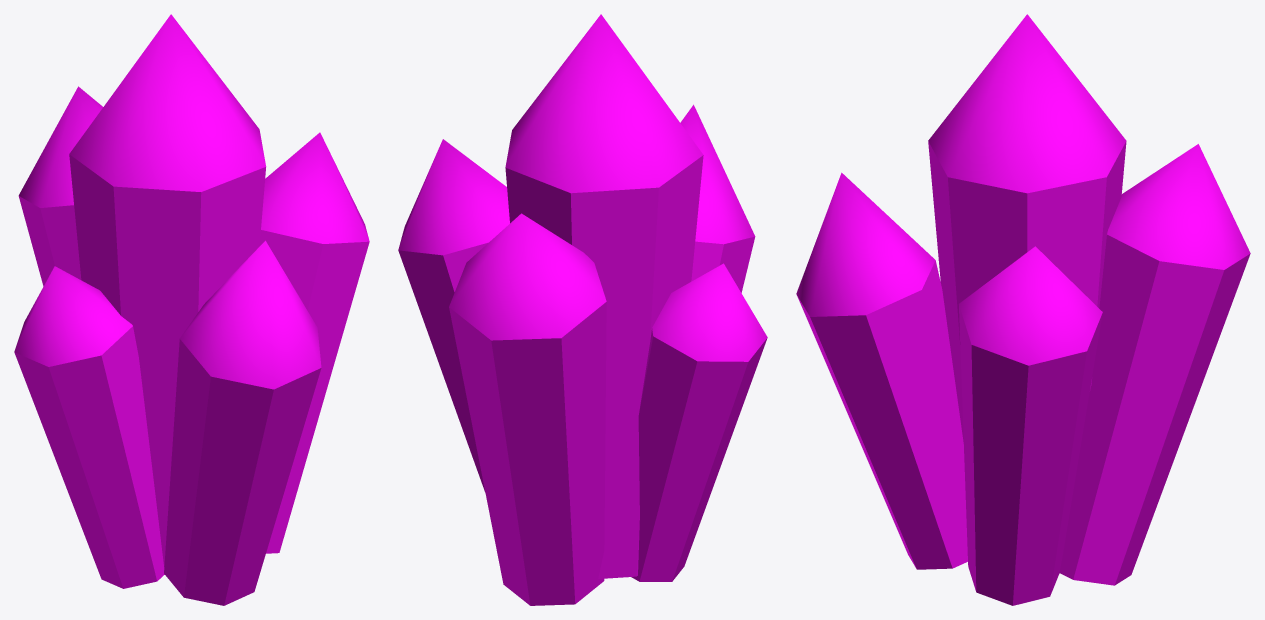
Rendered from Crystal_1.obj.
3 renders of one model, left to right at view 1: azimuth 30°, elevation 25°; view 2: azimuth 150°, elevation 25°; view 3: azimuth 270°, elevation 25°, orthographic.
Parts seen in each view (by area): view 1: pCylinder1, pasted__pCylinder1 group, pasted__pasted__pasted__pCylinder1 pasted__pasted__group pasted_, pasted__pasted__pasted__pasted__pCylinder1 pasted__pasted__paste, pasted__pasted__pCylinder1 pasted__group group1; view 2: pasted__pasted__pCylinder1 pasted__group group1, pCylinder1, pasted__pasted__pasted__pCylinder1 pasted__pasted__group pasted_, pasted__pasted__pasted__pasted__pCylinder1 pasted__pasted__paste, pasted__pCylinder1 group; view 3: pasted__pasted__pCylinder1 pasted__group group1, pasted__pCylinder1 group, pCylinder1, pasted__pasted__pasted__pasted__pCylinder1 pasted__pasted__paste.
Part boxes in pixels (x1,y1,x2,y2): pCylinder1: (69,14,266,574); pasted__pCylinder1 group: (164,240,321,605); pasted__pasted__pasted__pCylinder1 pasted__pasted__group pasted_: (14,266,164,588); pasted__pasted__pasted__pasted__pCylinder1 pasted__pasted__paste: (259,132,369,553); pasted__pasted__pCylinder1 pasted__group group1: (18,86,102,286); pasted__pasted__pCylinder1 pasted__group group1: (449,213,606,605); pCylinder1: (505,14,703,578); pasted__pasted__pasted__pCylinder1 pasted__pasted__group pasted_: (631,263,767,581); pasted__pasted__pasted__pasted__pCylinder1 pasted__pasted__paste: (398,139,509,491); pasted__pCylinder1 group: (680,104,755,292); pasted__pasted__pCylinder1 pasted__group group1: (1059,144,1250,585); pasted__pCylinder1 group: (796,172,967,569); pCylinder1: (928,14,1126,441); pasted__pasted__pasted__pasted__pCylinder1 pasted__pasted__paste: (959,246,1102,605).
Bounding box in the file's own units: 3.91 × 5.99 × 4.47.
